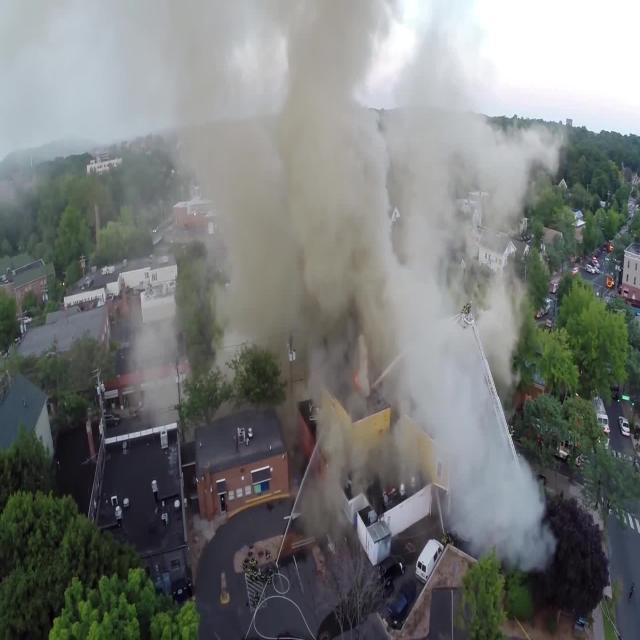Smoke: (218, 17, 382, 285)
